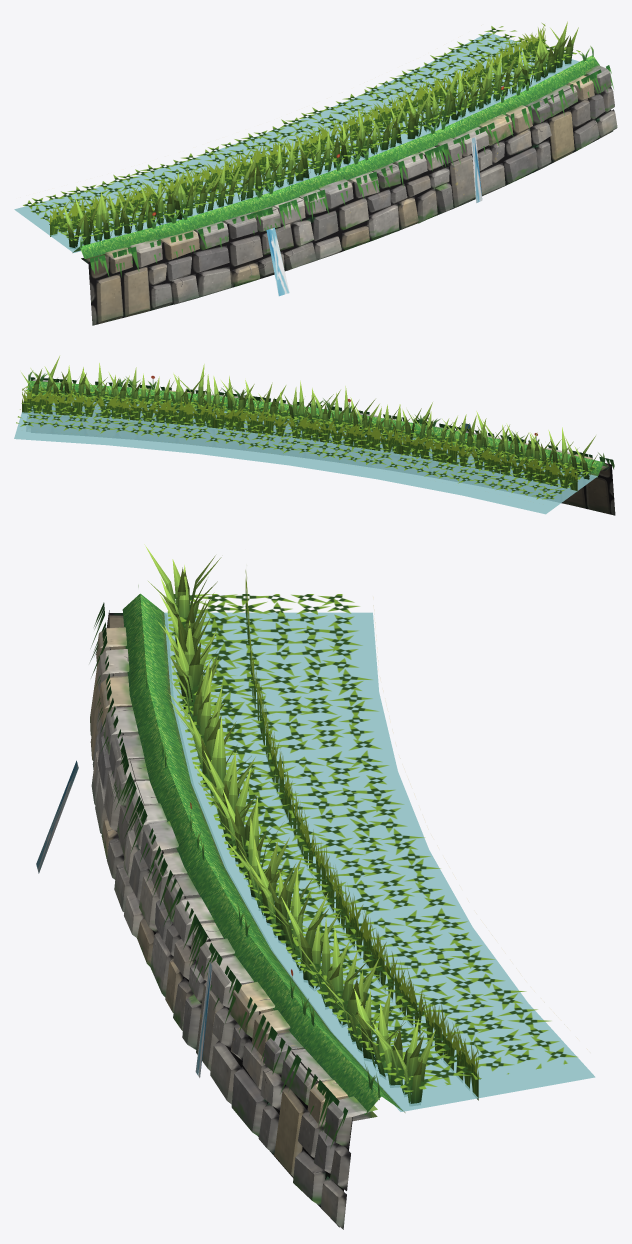
The model's file is terrace_convex_young_mid.glb.
3 views of the same model, one above another, from view 1: azimuth 30°, elevation 25°; view 2: azimuth 150°, elevation 25°; view 3: azimuth 270°, elevation 25° (orthographic). The views are drawn at different scales.
Visible parts, largest first — view 1: terrace_convex_young_mid_wall, terrace_convex_young_mid_cards, terrace_convex_young_mid_lip, terrace_convex_young_mid_water, terrace_convex_young_mid_dike, terrace_convex_young_mid_falls; view 2: terrace_convex_young_mid_cards, terrace_convex_young_mid_water, terrace_convex_young_mid_lip, terrace_convex_young_mid_dike, terrace_convex_young_mid_wall; view 3: terrace_convex_young_mid_water, terrace_convex_young_mid_cards, terrace_convex_young_mid_wall, terrace_convex_young_mid_lip, terrace_convex_young_mid_dike, terrace_convex_young_mid_falls.
Boxes of the visible parts, x1=… form: terrace_convex_young_mid_wall: x1=81, y1=65, x2=617, y2=325; terrace_convex_young_mid_cards: x1=23, y1=23, x2=613, y2=277; terrace_convex_young_mid_lip: x1=63, y1=21, x2=578, y2=248; terrace_convex_young_mid_water: x1=14, y1=32, x2=579, y2=252; terrace_convex_young_mid_dike: x1=72, y1=55, x2=599, y2=258; terrace_convex_young_mid_falls: x1=266, y1=137, x2=482, y2=296; terrace_convex_young_mid_cards: x1=16, y1=371, x2=614, y2=499; terrace_convex_young_mid_water: x1=14, y1=395, x2=597, y2=514; terrace_convex_young_mid_lip: x1=21, y1=356, x2=597, y2=479; terrace_convex_young_mid_dike: x1=27, y1=380, x2=607, y2=477; terrace_convex_young_mid_wall: x1=32, y1=379, x2=615, y2=515; terrace_convex_young_mid_water: x1=164, y1=612, x2=595, y2=1111; terrace_convex_young_mid_cards: x1=89, y1=570, x2=577, y2=1148; terrace_convex_young_mid_wall: x1=90, y1=610, x2=377, y2=1229; terrace_convex_young_mid_lip: x1=144, y1=544, x2=435, y2=1104; terrace_convex_young_mid_dike: x1=122, y1=593, x2=405, y2=1114; terrace_convex_young_mid_falls: x1=36, y1=760, x2=212, y2=1077.
Bounding box in the file's own units: 11.83 × 1.97 × 5.41.
Materials: 6 (5 with a texture image).
